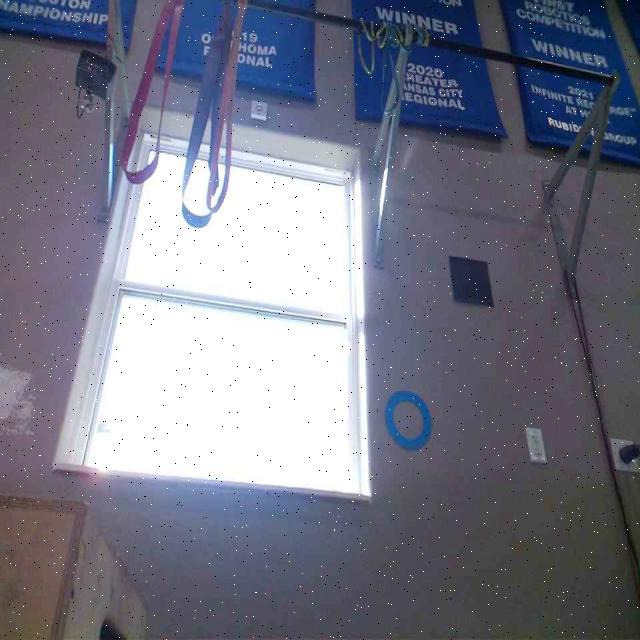ring_blue: (383, 388, 431, 449)
square_black: (446, 256, 494, 306)
